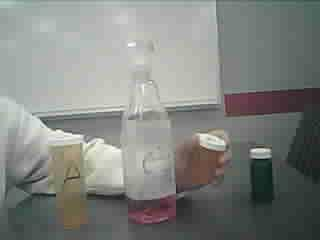Bottle A: (47, 135, 99, 231)
Bottle B: (190, 128, 234, 194)
Bottle C: (245, 142, 284, 209)
hazard: (118, 39, 187, 230)
